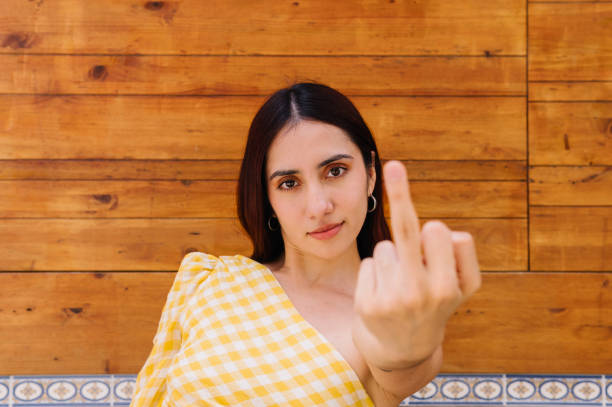insulting_gesture: (356, 157, 481, 360)
